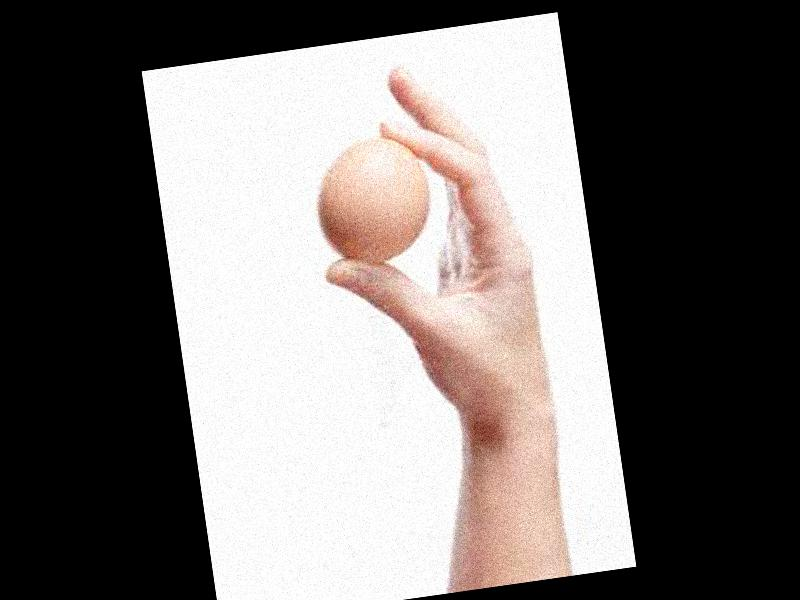Eggs: (309, 133, 436, 271)
